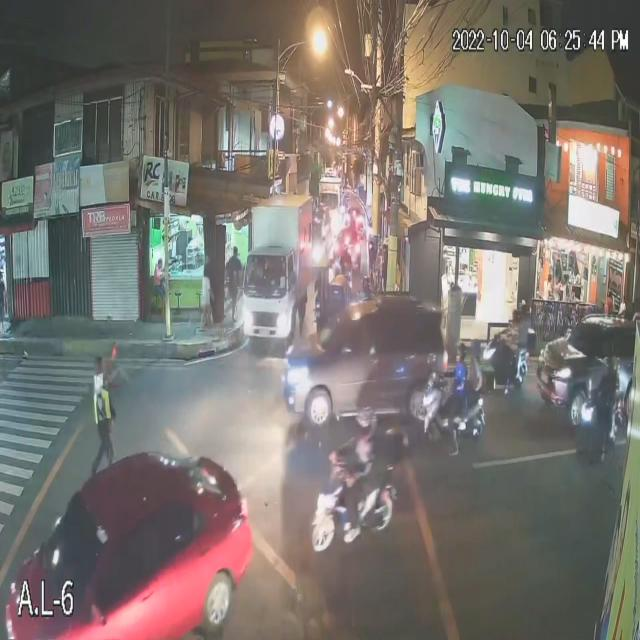Full-Faced: (356, 407, 378, 438), (452, 342, 468, 368), (512, 310, 522, 326)
